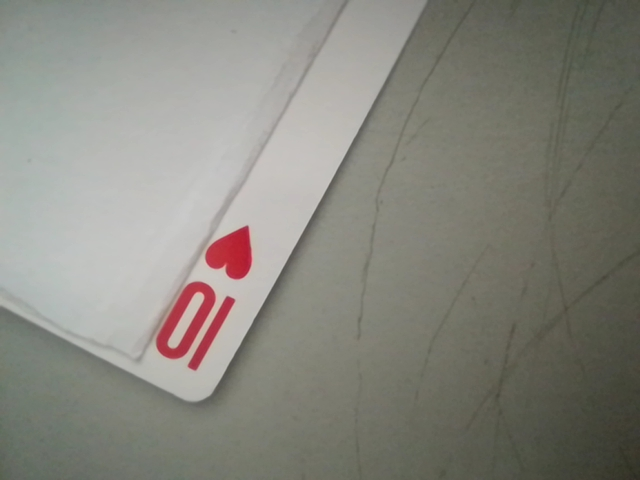hx 10: (146, 216, 265, 386)
